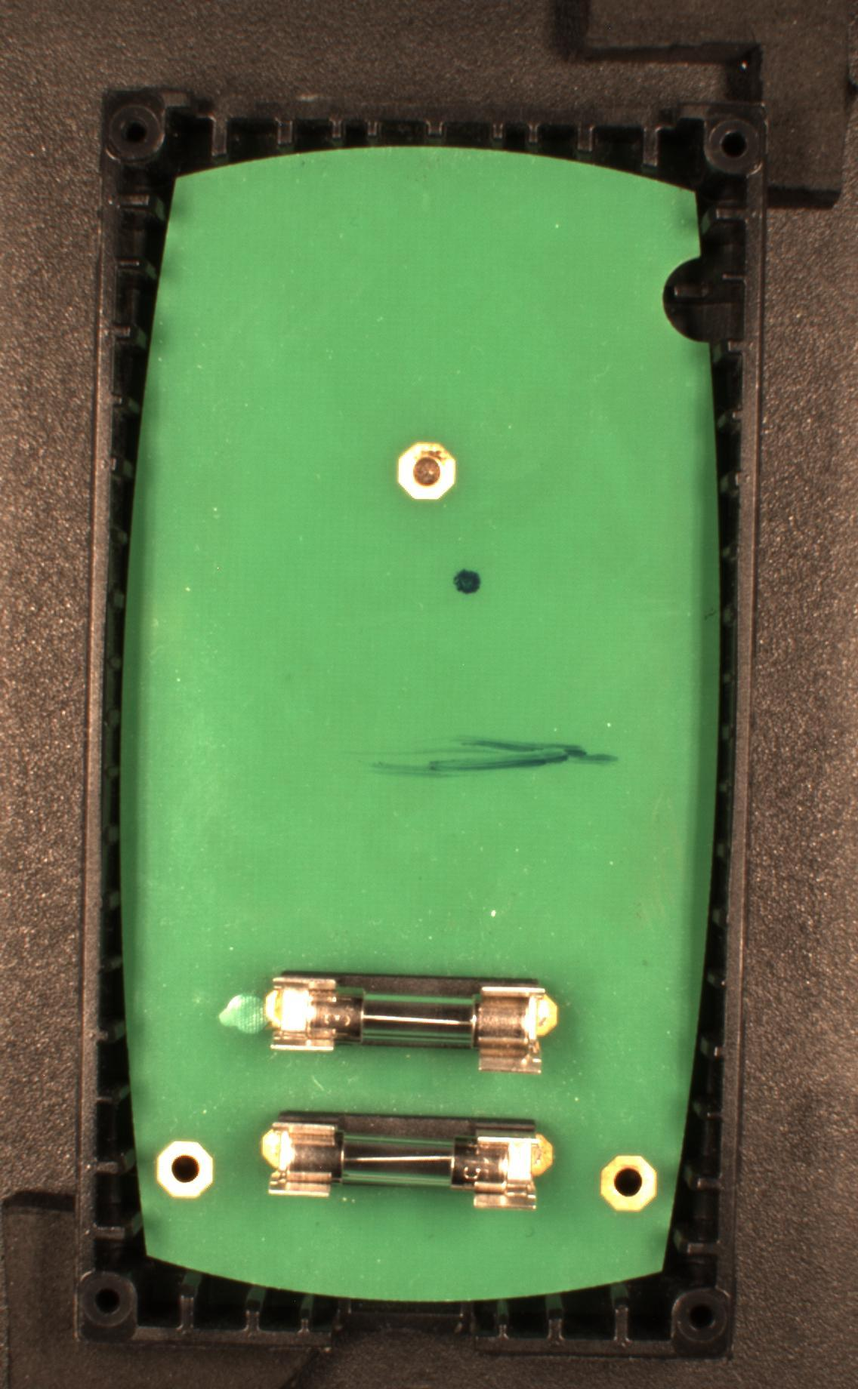Linijsko Ostecene: (360, 733, 620, 777)
Tockasto Ostecenje: (452, 568, 483, 597)
